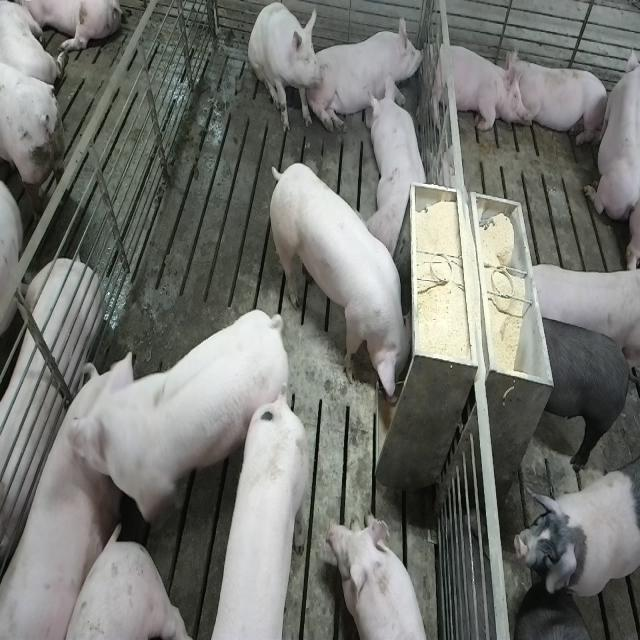Feeding: (272, 161, 420, 410)
Lateral_lying: (0, 258, 102, 584), (0, 378, 120, 640)
Sitting: (248, 1, 325, 136)
Standing: (68, 304, 286, 537), (216, 391, 318, 640), (512, 464, 638, 601), (535, 312, 633, 470), (522, 267, 638, 379), (513, 608, 604, 640)
Sternal_lying: (315, 10, 426, 137), (332, 512, 434, 640), (368, 75, 431, 256), (584, 38, 637, 230), (510, 51, 610, 149), (424, 36, 522, 135)
